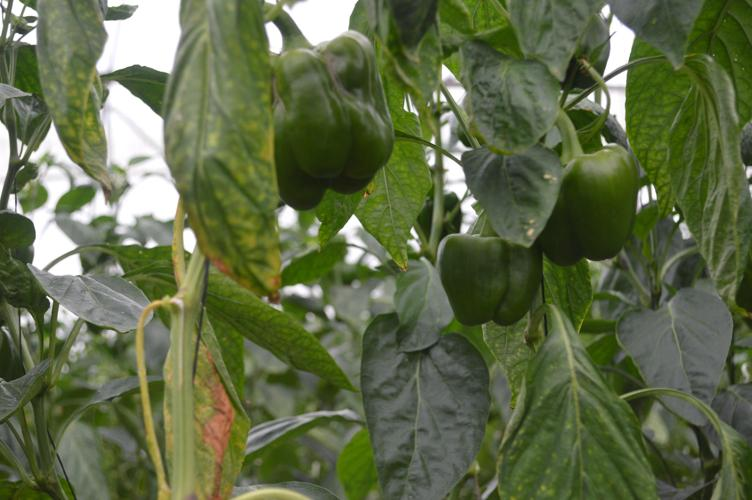BellPepper: (262, 33, 391, 201), (533, 146, 638, 266), (437, 237, 544, 329)
